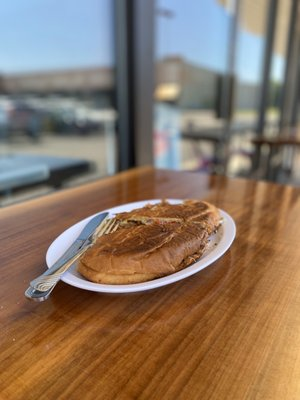burger: (23, 217, 120, 300)
sandwich: (25, 215, 118, 300)
